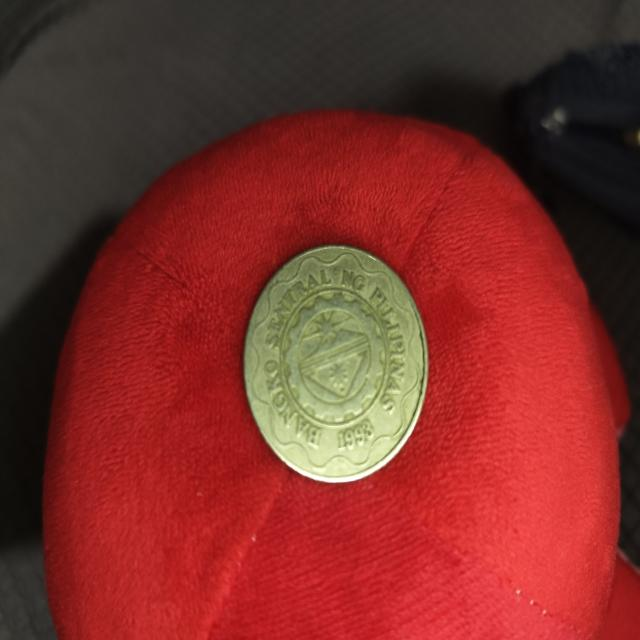5 peso-old: (239, 234, 433, 491)
